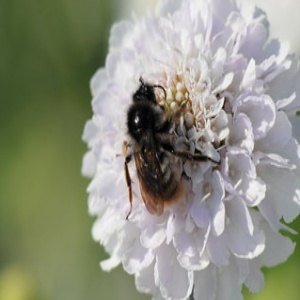bee: (120, 76, 224, 224)
